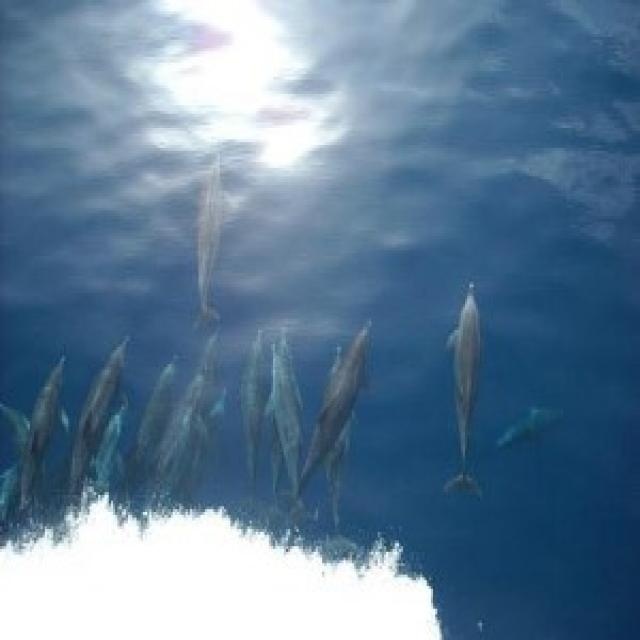Dolphin: (306, 318, 379, 498), (444, 264, 498, 498), (189, 149, 232, 336), (272, 330, 315, 512), (79, 342, 132, 484), (29, 351, 74, 478), (178, 371, 210, 525), (134, 353, 182, 454), (499, 405, 576, 462), (244, 330, 268, 506), (327, 415, 357, 536), (201, 401, 233, 508), (0, 382, 37, 442), (0, 466, 22, 543), (198, 340, 229, 392)
